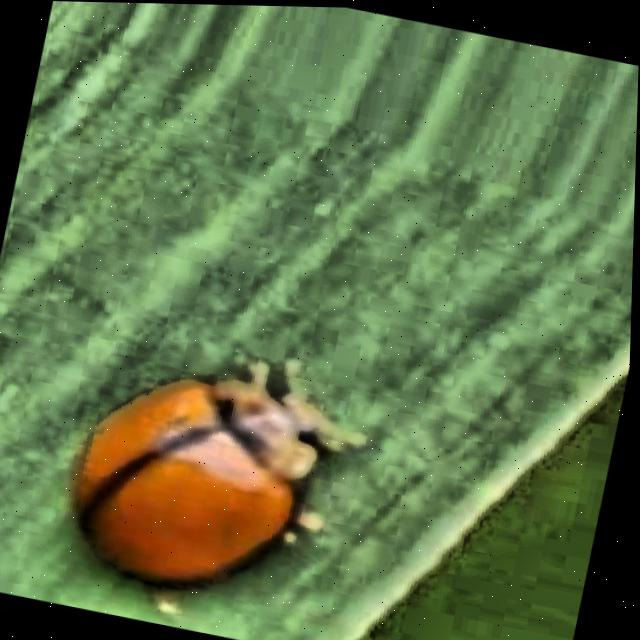Ladybug: (0, 289, 442, 640)
